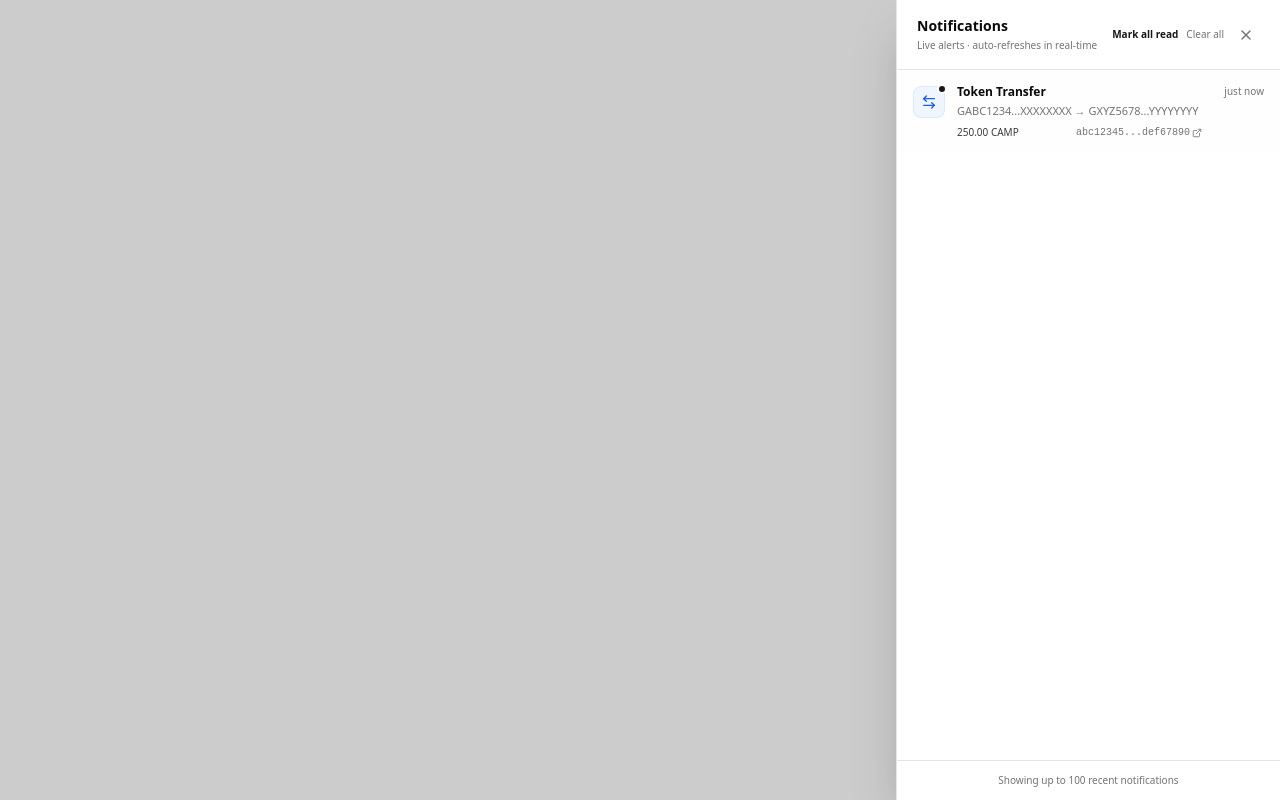
NotificationPanel › 'Clear all' button removes all notifications
The image size is (1280, 800).
Click the button "Clear all" at (1205, 34), box [1186, 27, 1224, 42]
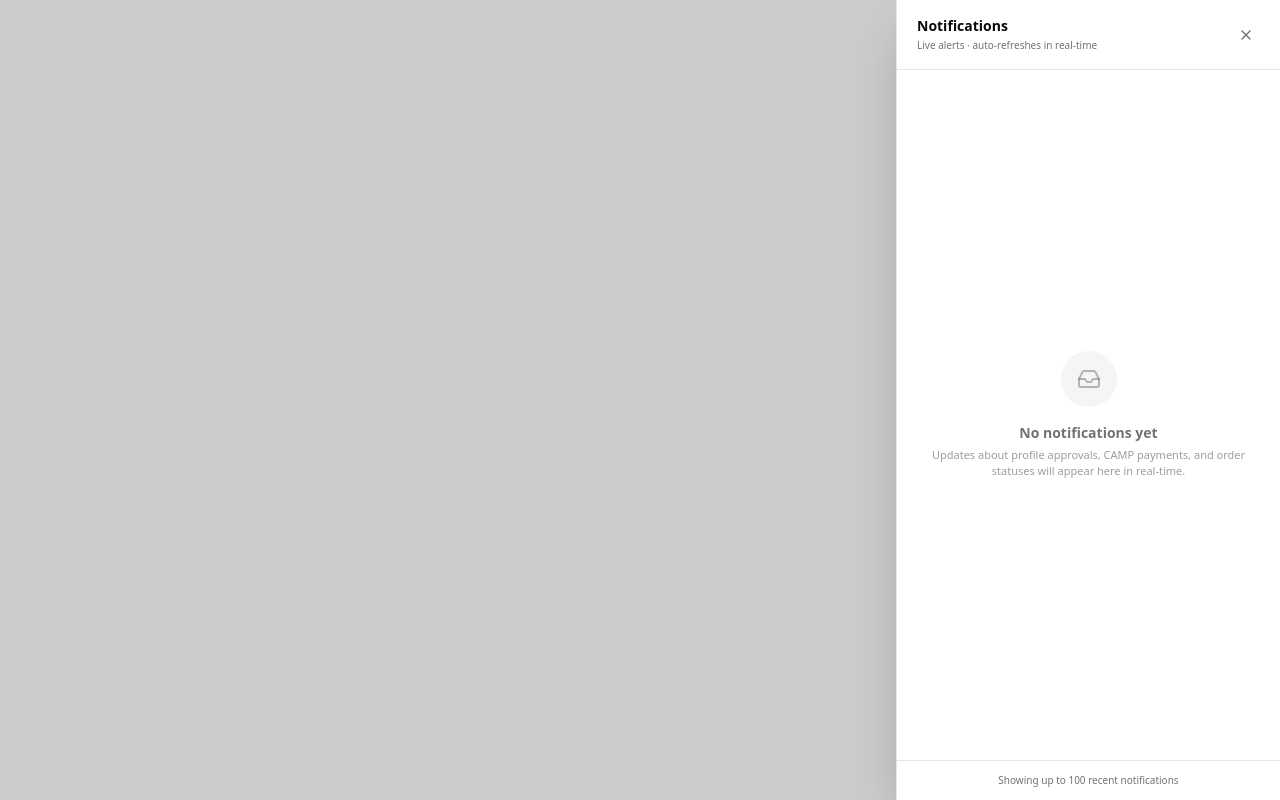
Result: the text "No notifications yet" is shown at [1019, 422, 1158, 442]
